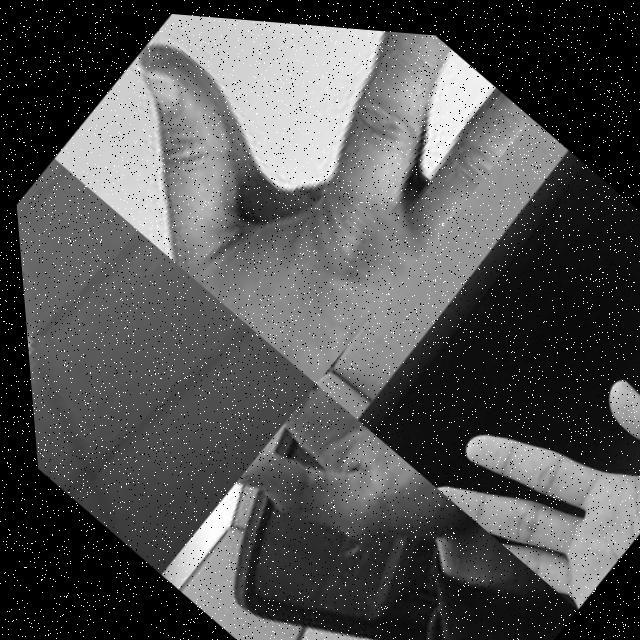no-gloves: (49, 3, 549, 393), (408, 270, 640, 606), (215, 372, 469, 622)
